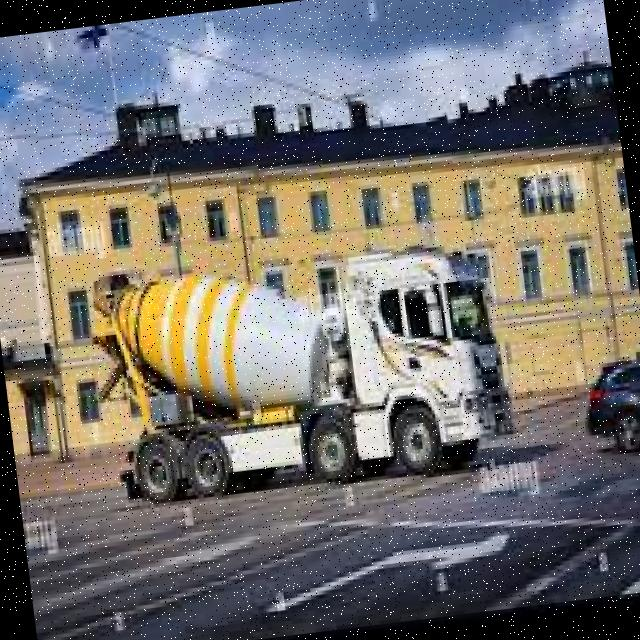Mixer Truck: (78, 221, 520, 517)
